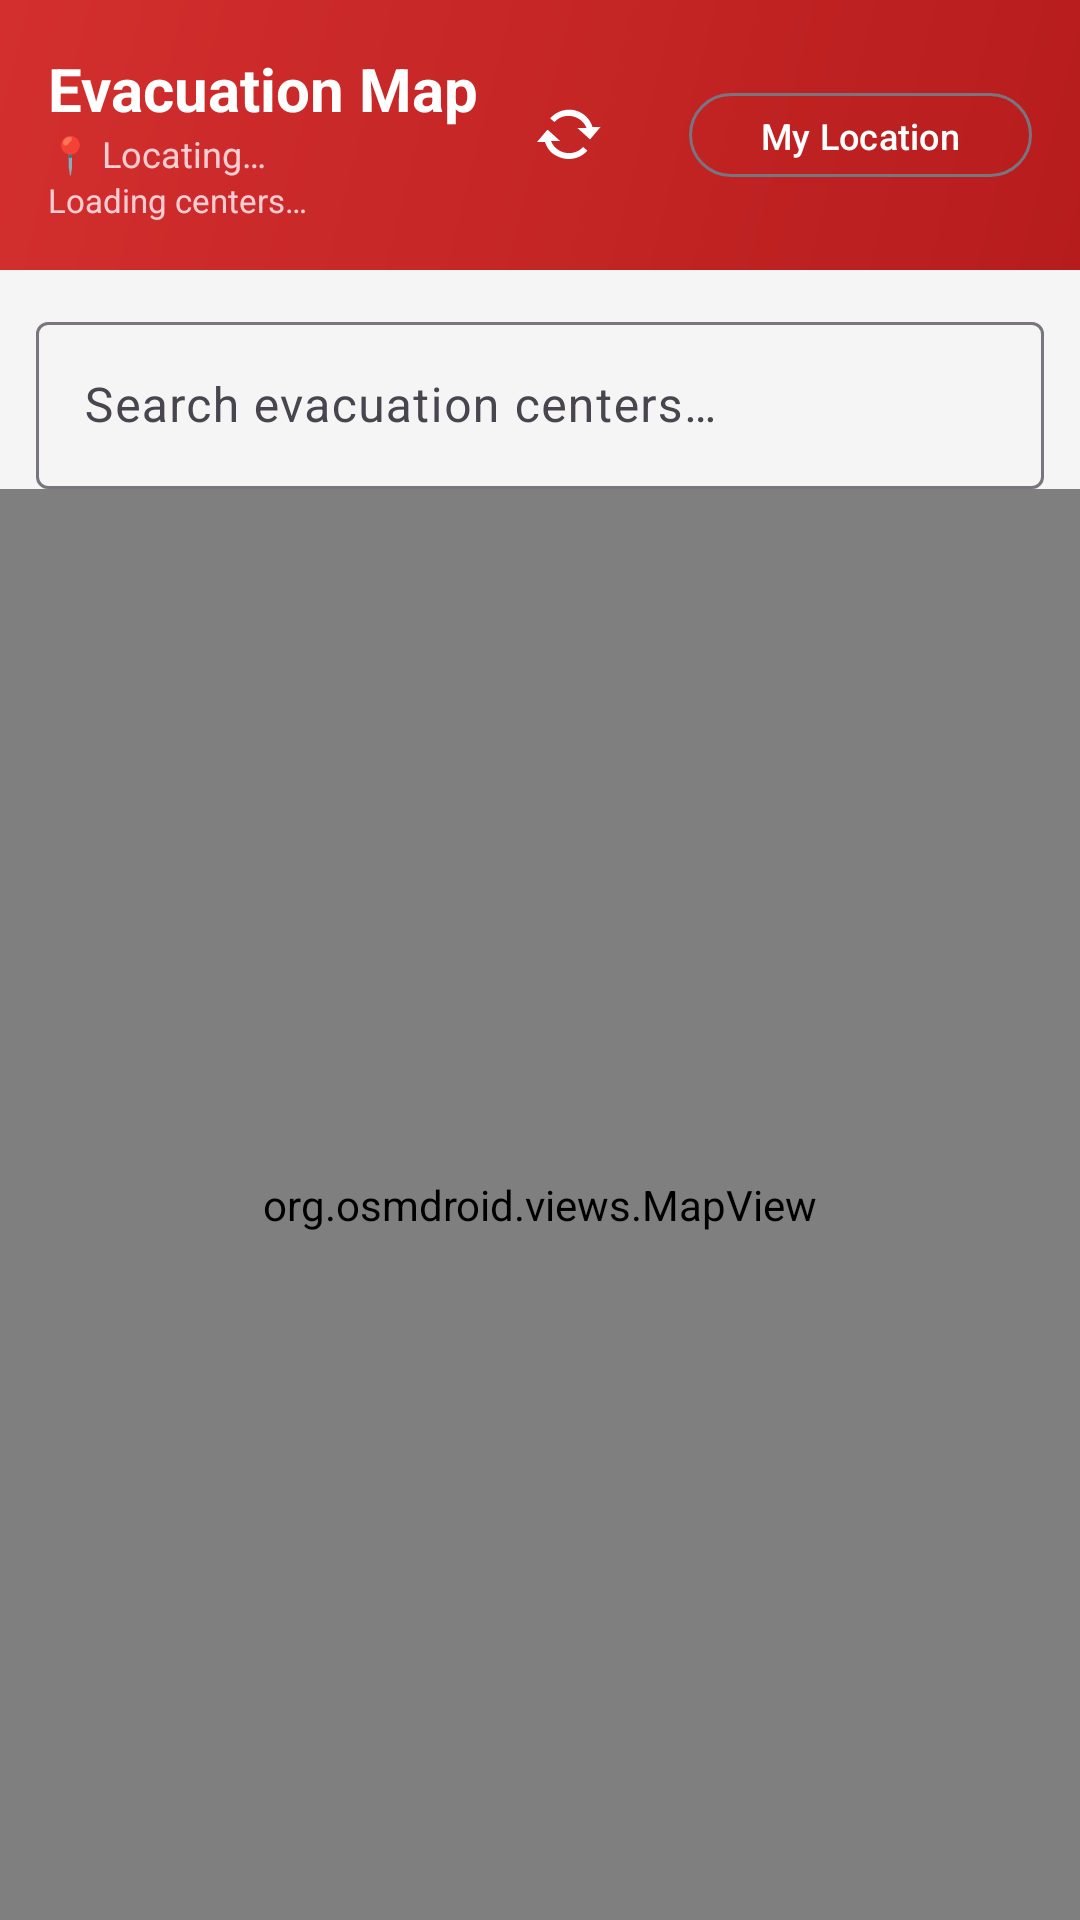

Icon bounding boxes for this 1080px×1920px phone screenshot, format bbox(x1, y1, x2, y2):
sync: bbox(537, 109, 601, 159)
